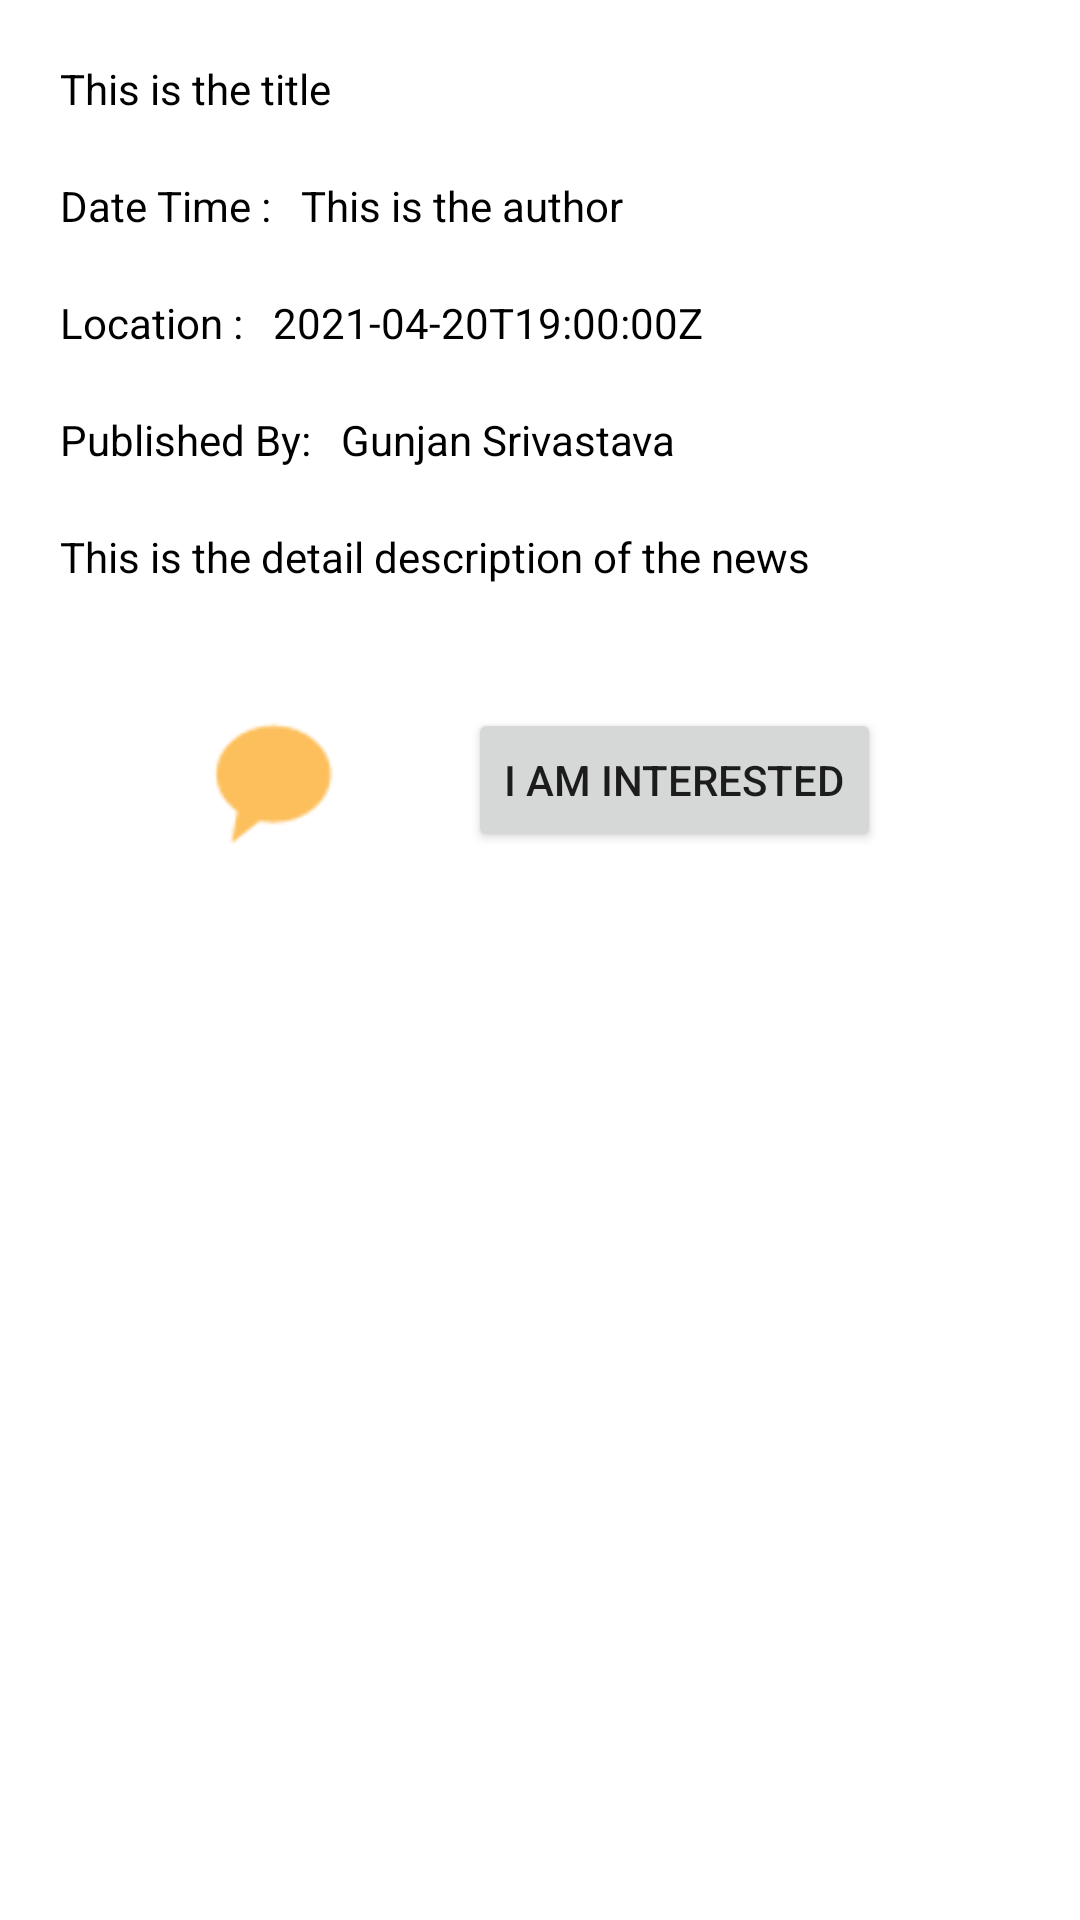

Icons on this 1080 × 1920 Android screen, each with its box as (x1, y1, x2, y2):
sym action chat: (215, 724, 333, 843)
